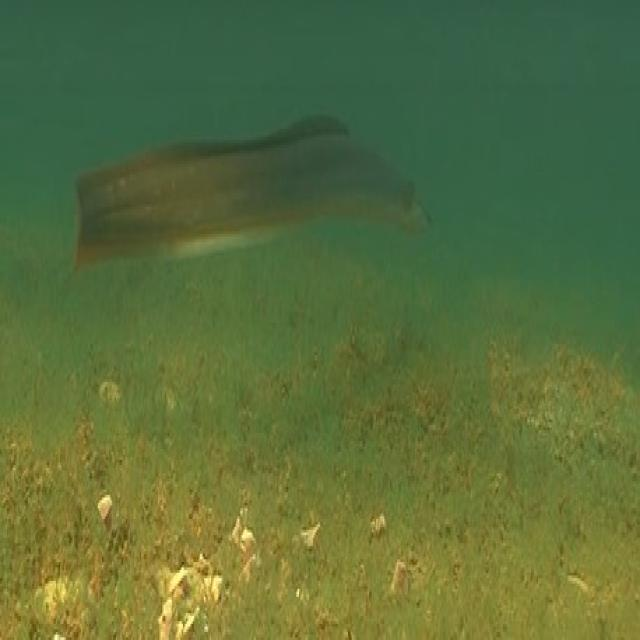Freshwater-Eel: (66, 80, 483, 296)
